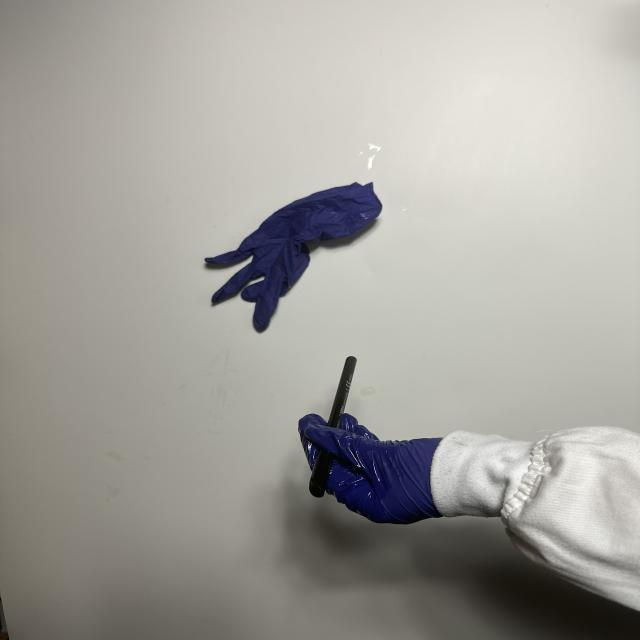gloves_contaminated: (301, 415, 442, 524)
